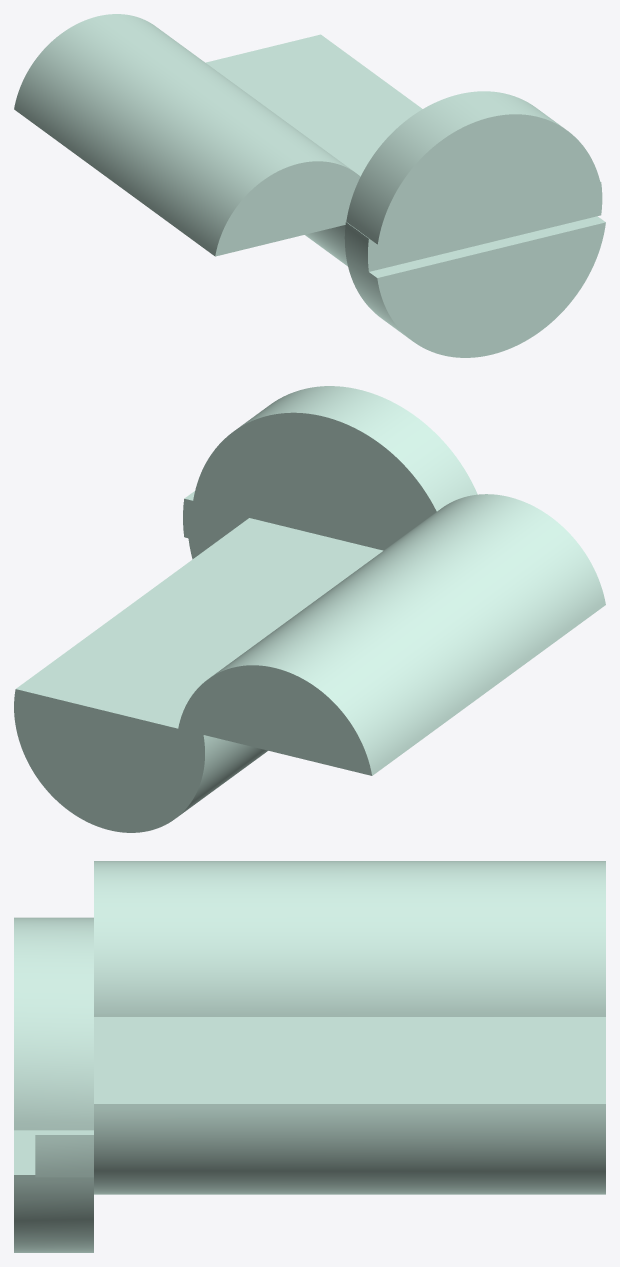
3 views of the same model, one above another, from view 1: azimuth 30°, elevation 25°; view 2: azimuth 150°, elevation 25°; view 3: azimuth 270°, elevation 25° (orthographic). The views are drawn at different scales.
Visible parts, largest first — view 1: Renderer Node; view 2: Renderer Node; view 3: Renderer Node.
Part boxes in pixels (x1,y1,x2,y2): Renderer Node: (14,14,605,357); Renderer Node: (14,386,605,832); Renderer Node: (14,861,605,1252).
Bounding box in the file's own units: 0.7836 × 0.4889 × 0.8672.
